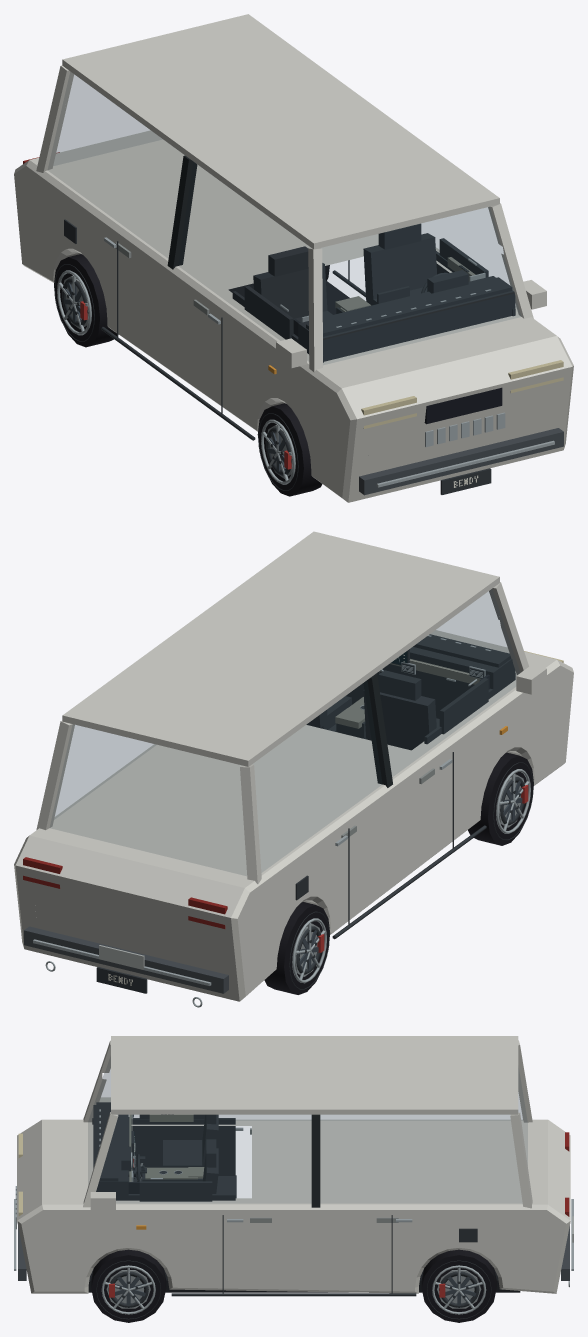
3 views of the same model, one above another, from view 1: azimuth 30°, elevation 25°; view 2: azimuth 150°, elevation 25°; view 3: azimuth 270°, elevation 25° (orthographic). The views are drawn at different scales.
Visible parts, largest first — view 1: body, windows, cabin-detail-trim, close-detail-detail-trim, wheel-mesh_2, wheel-mesh, close-detail-detail-alloy, wheel-rear-right-fittings-detail-alloy, wheel-front-right-fittings-detail-alloy, wheel-front-right-fittings-detail-trim, wheel-rear-right-fittings-detail-trim; view 2: body, windows, cabin-detail-trim, close-detail-detail-trim, wheel-mesh, wheel-mesh_2, cabin-cabin-trim, close-detail-detail-alloy, wheel-rear-right-fittings-detail-alloy, wheel-front-right-fittings-detail-alloy, wheel-rear-right-fittings-detail-trim, wheel-front-right-fittings-detail-trim; view 3: body, windows, cabin-detail-trim, close-detail-detail-trim, wheel-mesh_1, wheel-mesh_3, cabin-cabin-trim, wheel-rear-left-fittings-detail-alloy, wheel-front-left-fittings-detail-alloy, wheel-front-left-fittings-detail-trim, wheel-rear-left-fittings-detail-trim, close-detail-detail-alloy.
Boxes of the visible parts, x1,y1,x2,y2 form: body: [14, 14, 573, 502]; windows: [48, 72, 520, 364]; cabin-detail-trim: [232, 238, 515, 362]; close-detail-detail-trim: [64, 219, 491, 494]; wheel-mesh_2: [257, 403, 322, 496]; wheel-mesh: [54, 254, 118, 347]; close-detail-detail-alloy: [104, 237, 554, 487]; wheel-rear-right-fittings-detail-alloy: [57, 270, 91, 335]; wheel-front-right-fittings-detail-alloy: [261, 419, 295, 484]; wheel-front-right-fittings-detail-trim: [258, 413, 298, 490]; wheel-rear-right-fittings-detail-trim: [54, 264, 94, 341]; body: [14, 531, 573, 1001]; windows: [50, 590, 519, 875]; cabin-detail-trim: [328, 634, 515, 744]; close-detail-detail-trim: [96, 670, 486, 993]; wheel-mesh: [264, 902, 330, 994]; wheel-mesh_2: [468, 752, 533, 845]; cabin-cabin-trim: [335, 659, 480, 728]; close-detail-detail-alloy: [33, 759, 452, 1007]; wheel-rear-right-fittings-detail-alloy: [292, 918, 326, 983]; wheel-front-right-fittings-detail-alloy: [496, 769, 530, 833]; wheel-rear-right-fittings-detail-trim: [289, 911, 329, 989]; wheel-front-right-fittings-detail-trim: [493, 762, 533, 840]; body: [17, 1036, 573, 1293]; windows: [88, 1058, 527, 1202]; cabin-detail-trim: [92, 1102, 236, 1201]; close-detail-detail-trim: [163, 1114, 477, 1296]; wheel-mesh_1: [421, 1249, 496, 1322]; wheel-mesh_3: [91, 1249, 166, 1322]; cabin-cabin-trim: [129, 1114, 204, 1181]; wheel-rear-left-fittings-detail-alloy: [432, 1265, 486, 1314]; wheel-front-left-fittings-detail-alloy: [101, 1265, 155, 1314]; wheel-front-left-fittings-detail-trim: [96, 1260, 160, 1319]; wheel-rear-left-fittings-detail-trim: [426, 1260, 491, 1319]; close-detail-detail-alloy: [14, 1127, 573, 1287].
Bounding box in the file's own units: 2.17 × 2.05 × 5.08.
